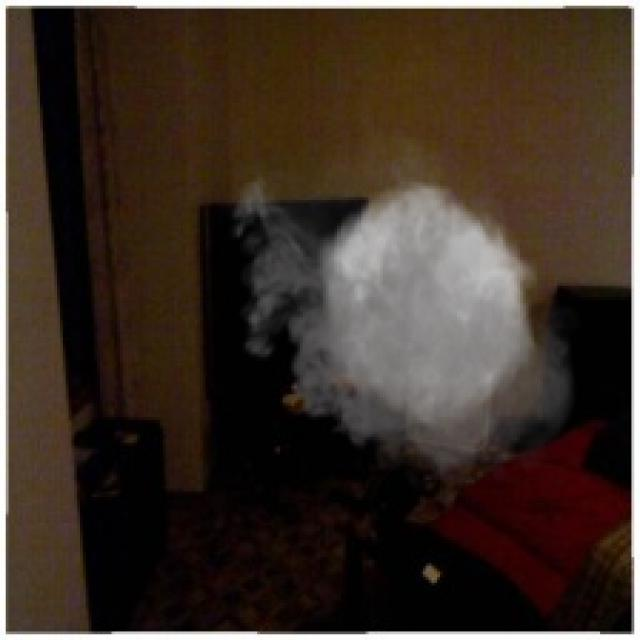smoke: (220, 114, 589, 497)
